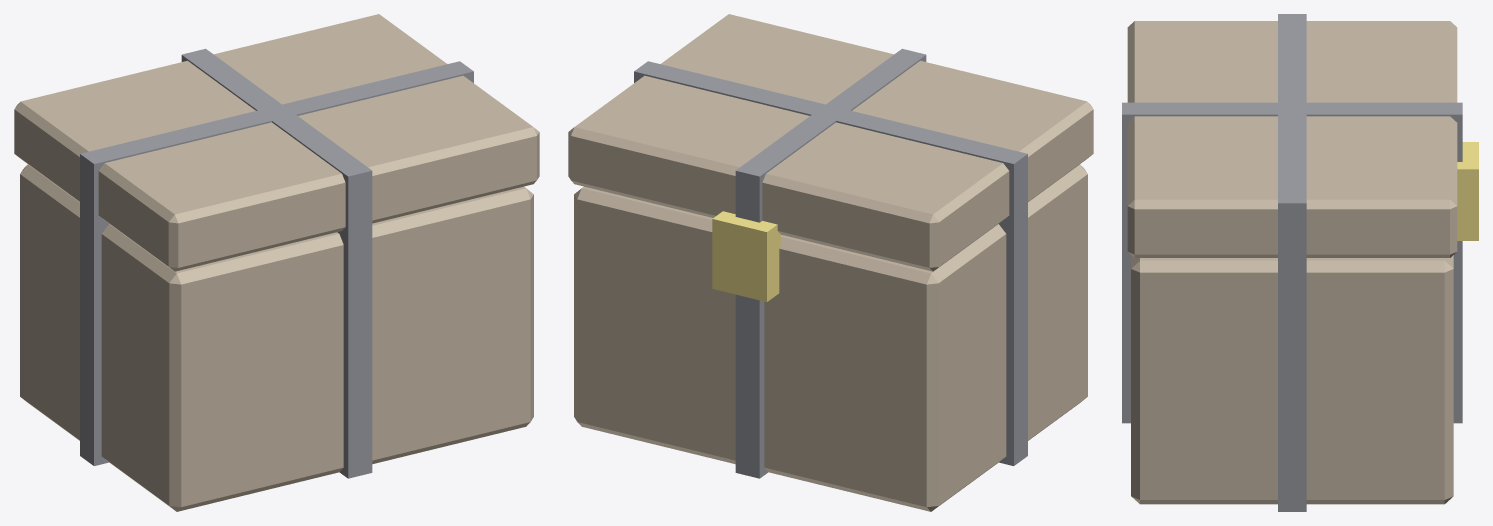
File: chest_01.glb
The picture shows the model from 3 angles, left to right: view 1: azimuth 30°, elevation 25°; view 2: azimuth 150°, elevation 25°; view 3: azimuth 270°, elevation 25°; orthographic projection. The views are drawn at different scales.
Parts seen in each view (by area): view 1: chest_01; view 2: chest_01; view 3: chest_01.
Part boxes in pixels (x1,y1,x2,y2): chest_01: (14, 14, 539, 511); chest_01: (568, 14, 1093, 511); chest_01: (1122, 14, 1478, 511).
Size of the model in its own units: 1.25 by 0.95 by 0.995.
